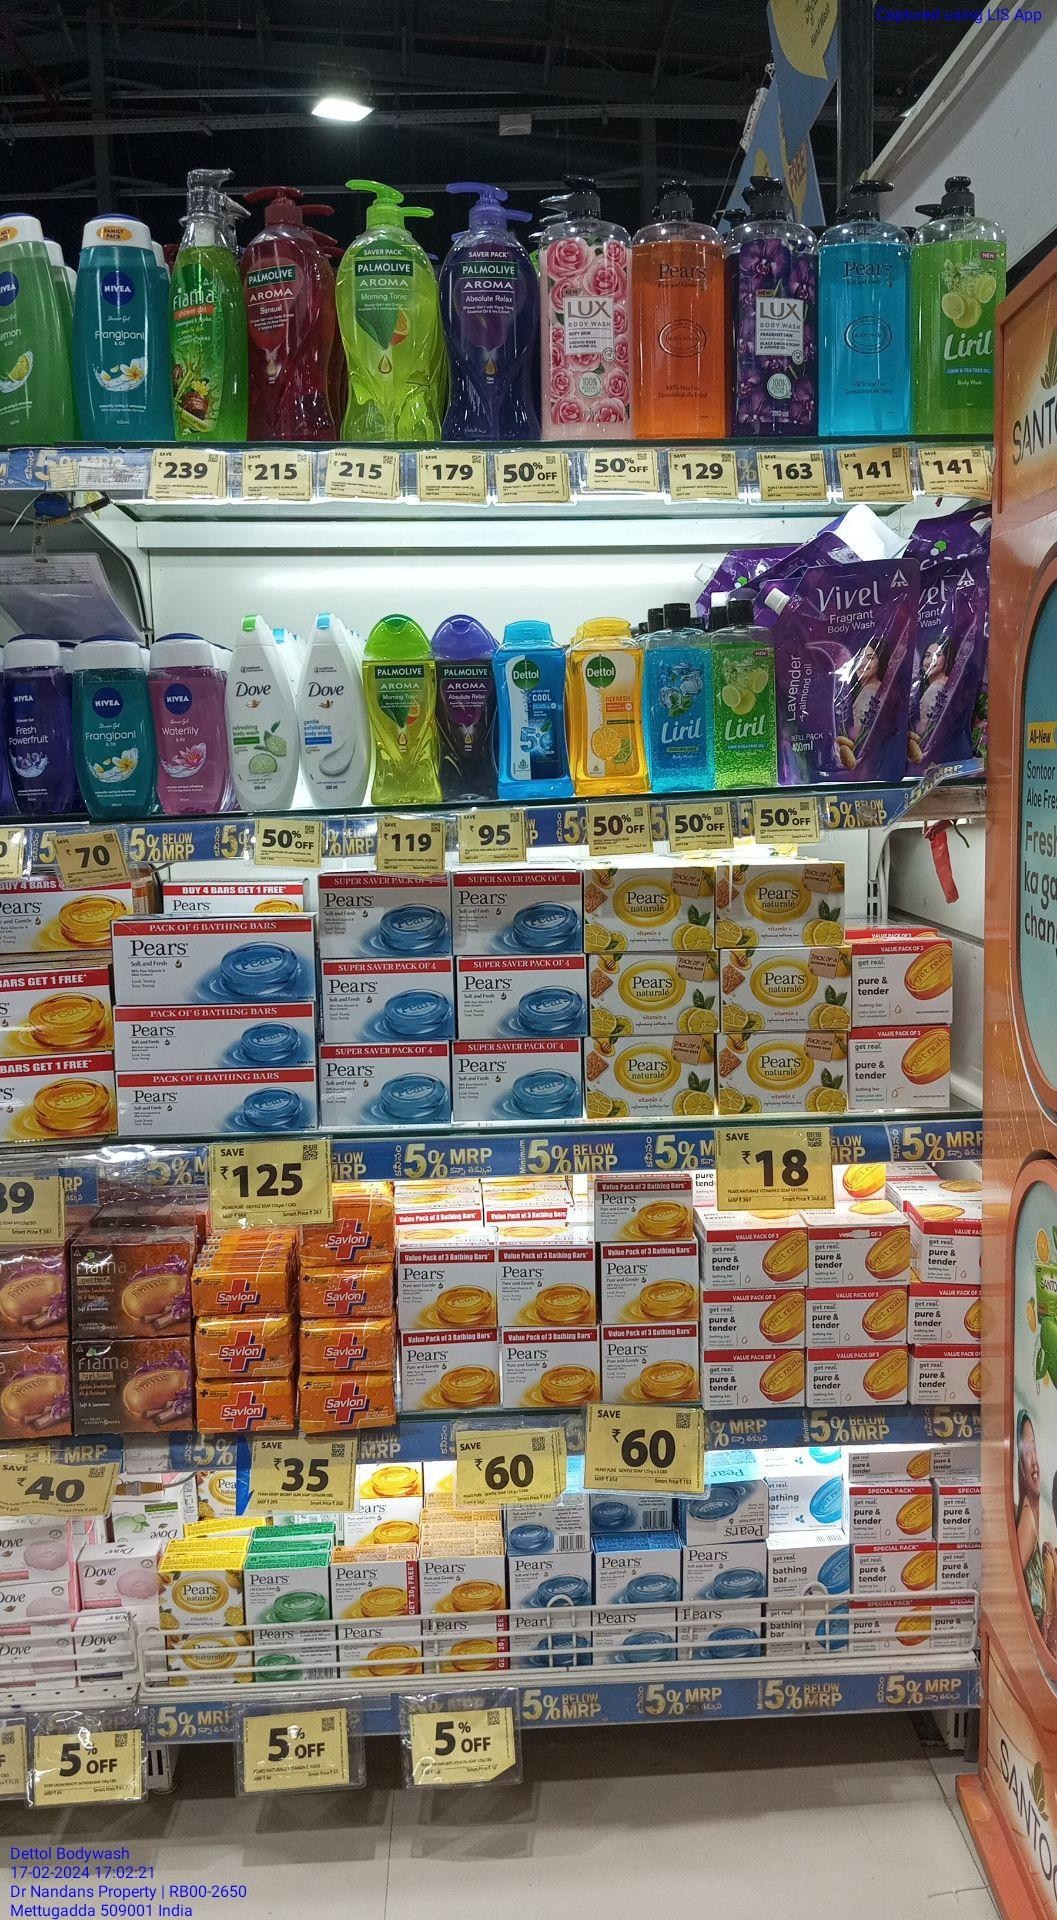Dettol_Bodywash_Cool: (500, 618, 571, 801)
Dettol_Bodywash_Refresh: (573, 612, 648, 794)
Dove_Gentle_Exfoliating_Body_Wash_250ML: (298, 609, 368, 814)
Dove_Refreshing_Body_Wash_250ML: (233, 612, 298, 812)
Liril_Cooling_Mint_Body_Wash_250ML: (648, 597, 713, 788)
Liril_Lime_and_Tea_Tree_Oil_Body_Wash_250ML: (716, 597, 777, 789)
Nivea_Shower_Gel_Frangipani_and_Oil_250ML: (77, 635, 155, 817)
Nivea_Shower_Gel_Fresh_Powerfruit_250ML: (0, 635, 72, 810)
Nivea_Shower_Gel_Waterlily_and_Oil_250ML: (156, 631, 228, 810)
Palmolive_Aroma_Morning_Tonic_Shower_Gel_250ML: (372, 610, 440, 807)
Palmolive_Aroma_Relax_250ML: (443, 612, 499, 801)
